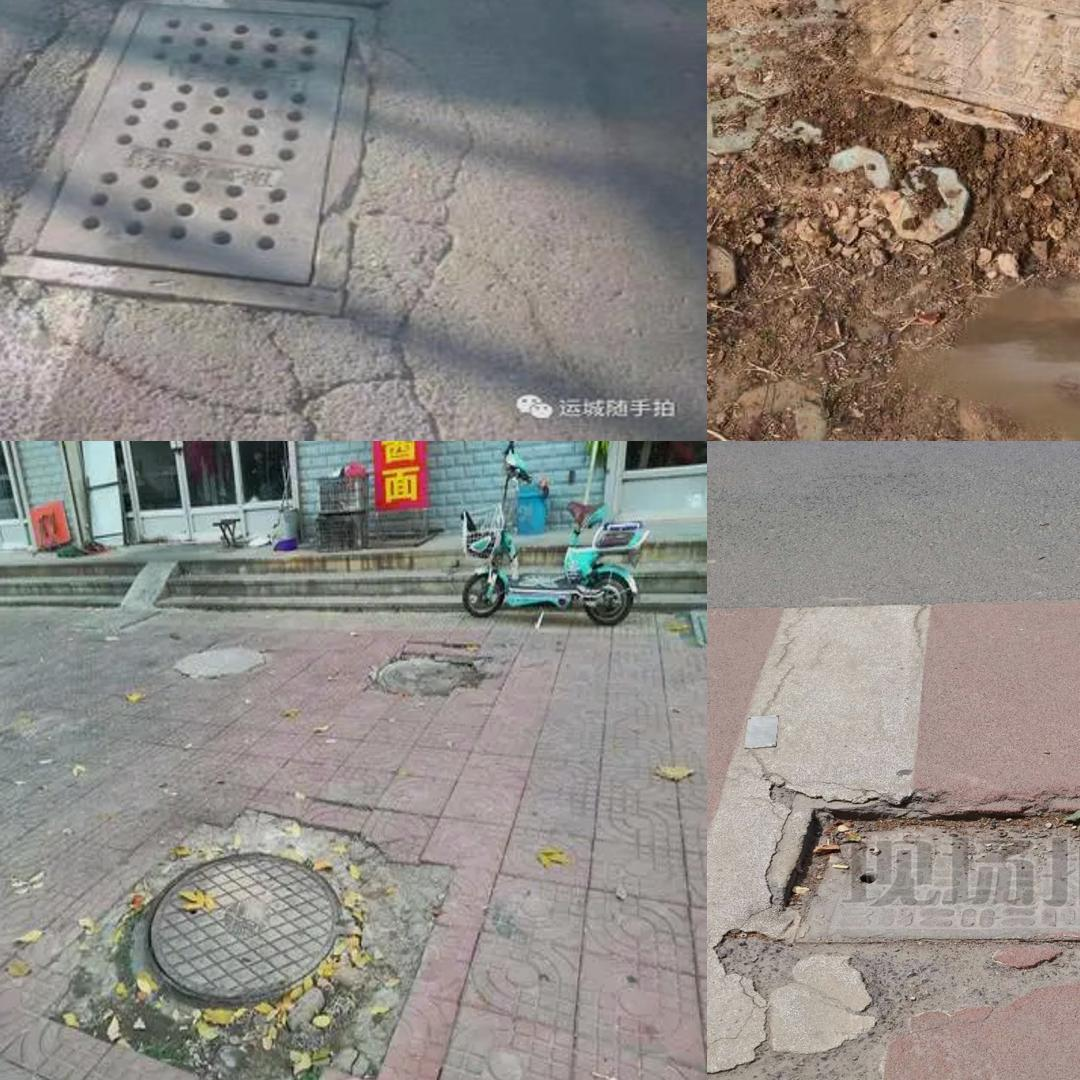circle: (0, 0, 494, 406), (74, 807, 436, 1080), (761, 799, 1080, 951), (826, 0, 1080, 176)
